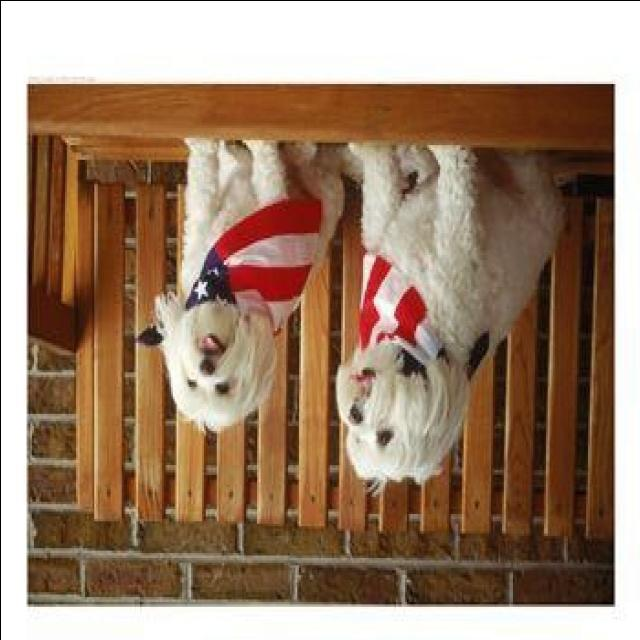maltese_dog: (333, 142, 563, 496), (152, 132, 346, 430)
